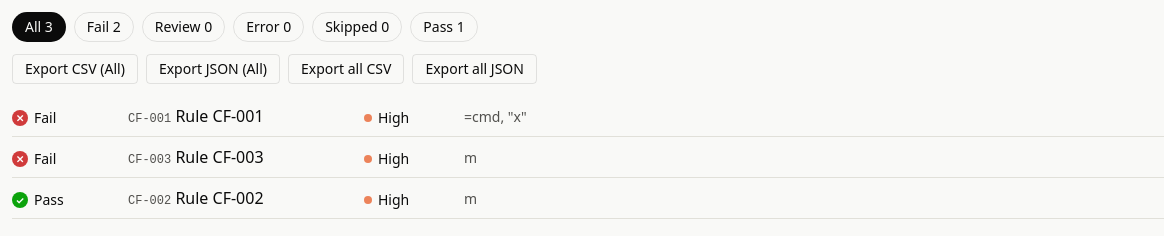
ComplianceResults export › exports the filtered JSON and disables the filtered buttons when nothing matches
Click the button "Pass 1" at (444, 27), box x1=410 y1=12 x2=478 y2=42
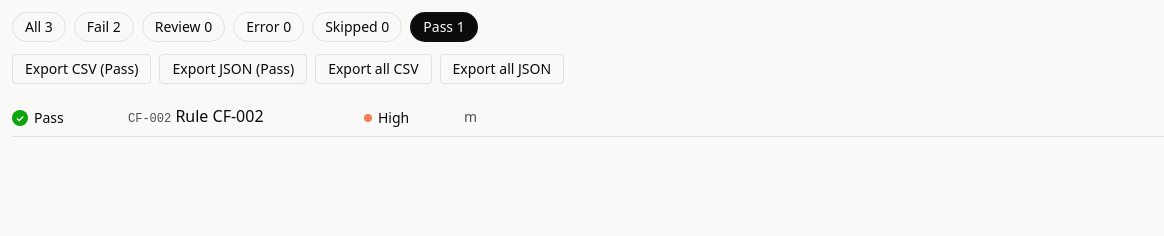
Click the button "Export JSON (Pass)" at (233, 69), box x1=160 y1=54 x2=307 y2=84
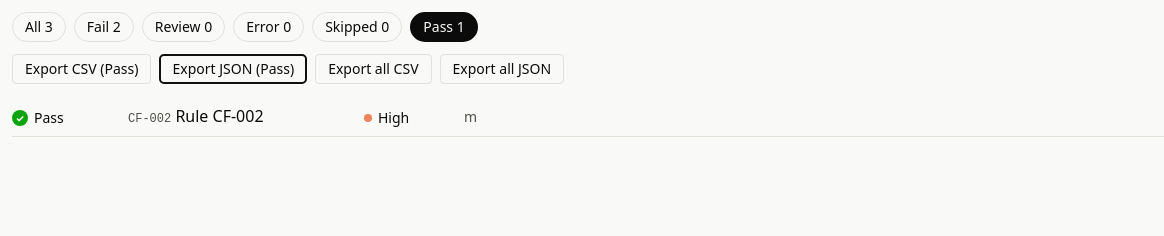
Click the button "Error 0" at (269, 27), box x1=233 y1=12 x2=304 y2=42
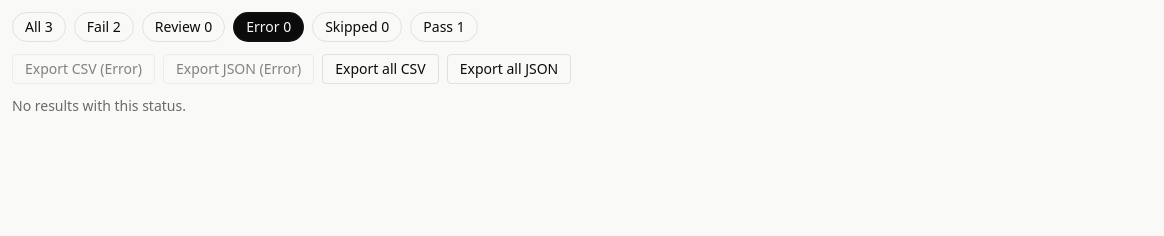
Check: the button "Export all CSV" is enabled, box x1=322 y1=54 x2=439 y2=84
Check: the button "Export CSV (Error)" is disabled, box x1=12 y1=54 x2=155 y2=84
